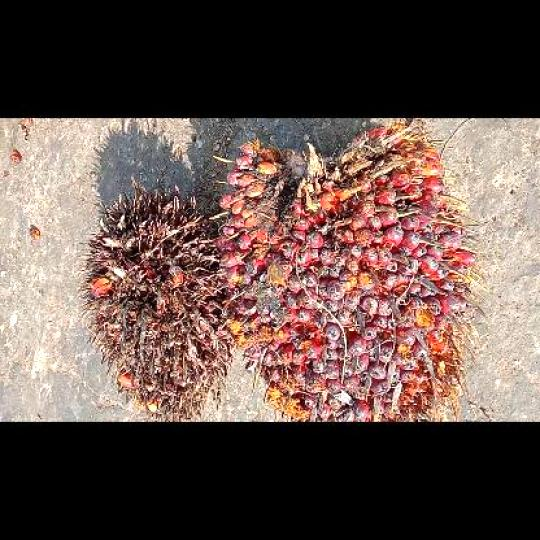masak: (217, 123, 489, 420)
terlalu masak: (82, 182, 234, 420)
